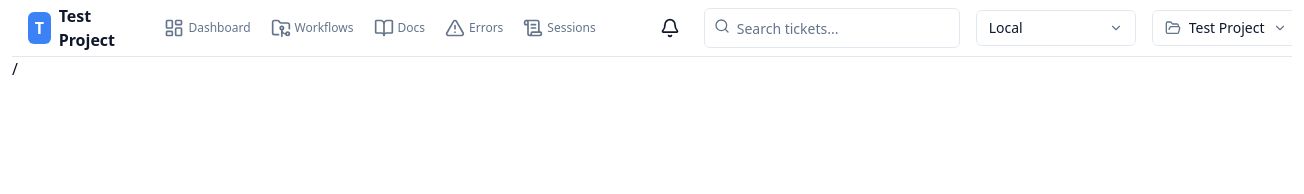
Scenario: Header - connection dropdown › dropdown lists all connections plus Manage option
Check: the text "manage connections" is not shown
Click the button "Local": (1056, 28) [976, 10, 1136, 46]
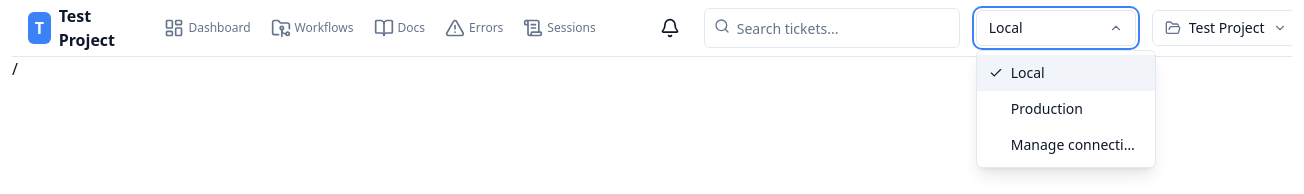
Check: the text "Manage connections…" is shown, box [1011, 135, 1143, 155]
Check: the text "Production" is shown, box [1011, 99, 1083, 119]
